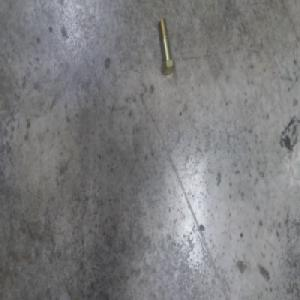Bolt: (158, 17, 176, 74)
